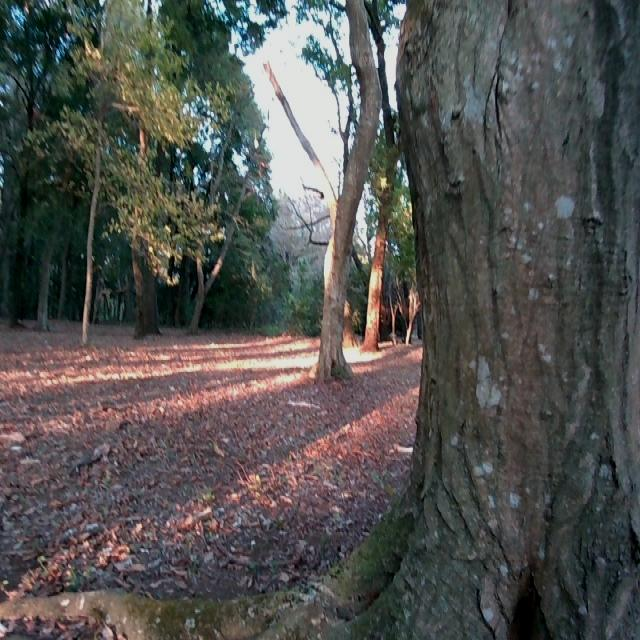tree: (393, 0, 640, 640), (313, 0, 382, 379), (362, 51, 402, 351), (191, 105, 237, 332), (131, 0, 158, 339), (78, 127, 107, 332)
